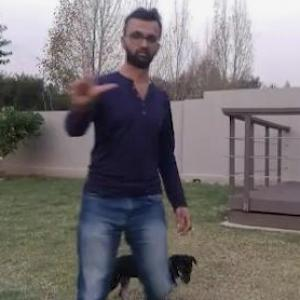land_hand: (63, 38, 118, 112)
